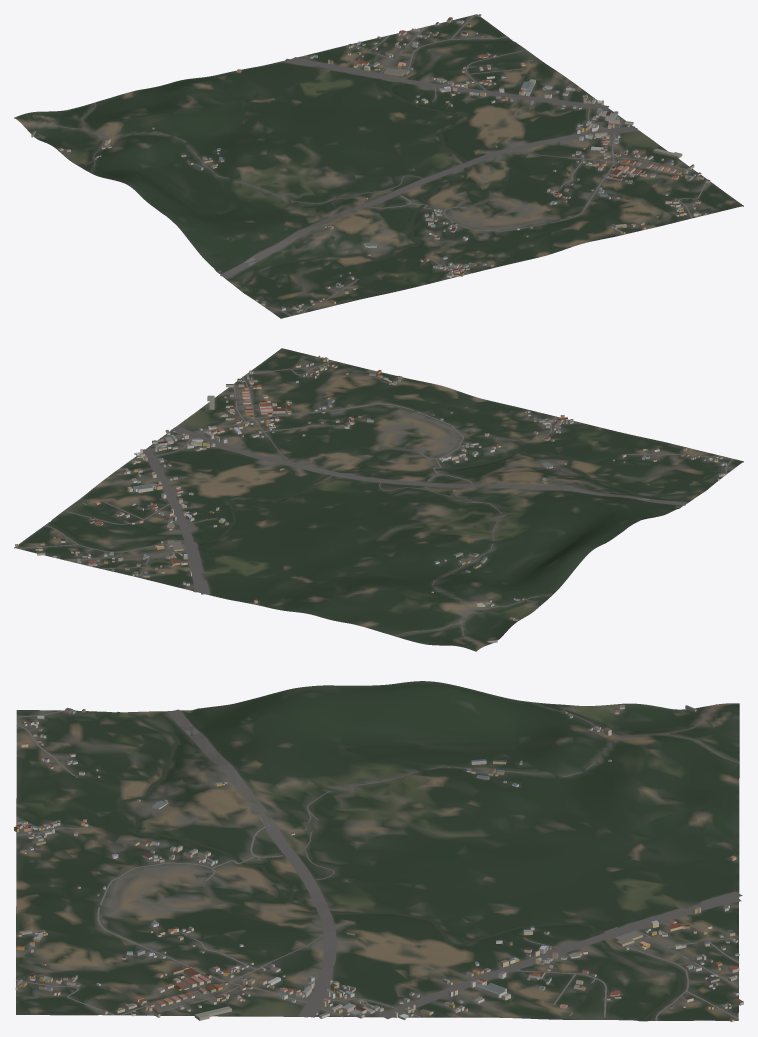
3 views of the same model, one above another, from view 1: azimuth 30°, elevation 25°; view 2: azimuth 150°, elevation 25°; view 3: azimuth 270°, elevation 25° (orthographic). The views are drawn at different scales.
Parts seen in each view (by area): view 1: ground, buildings, roads, water; view 2: ground, buildings, roads, water; view 3: ground, buildings, roads, water.
Boxes of the visible parts, x1,y1,x2,y2 form: ground: [14, 14, 743, 318]; buildings: [31, 14, 710, 312]; roads: [22, 14, 707, 316]; water: [217, 39, 512, 292]; ground: [14, 348, 743, 651]; buildings: [15, 355, 726, 642]; roads: [16, 360, 733, 646]; water: [48, 450, 706, 550]; ground: [16, 681, 739, 1021]; buildings: [14, 705, 743, 1021]; roads: [16, 702, 742, 1020]; water: [113, 710, 682, 1021].
Size of the model in its own units: 1424 by 79.6 by 1415.
